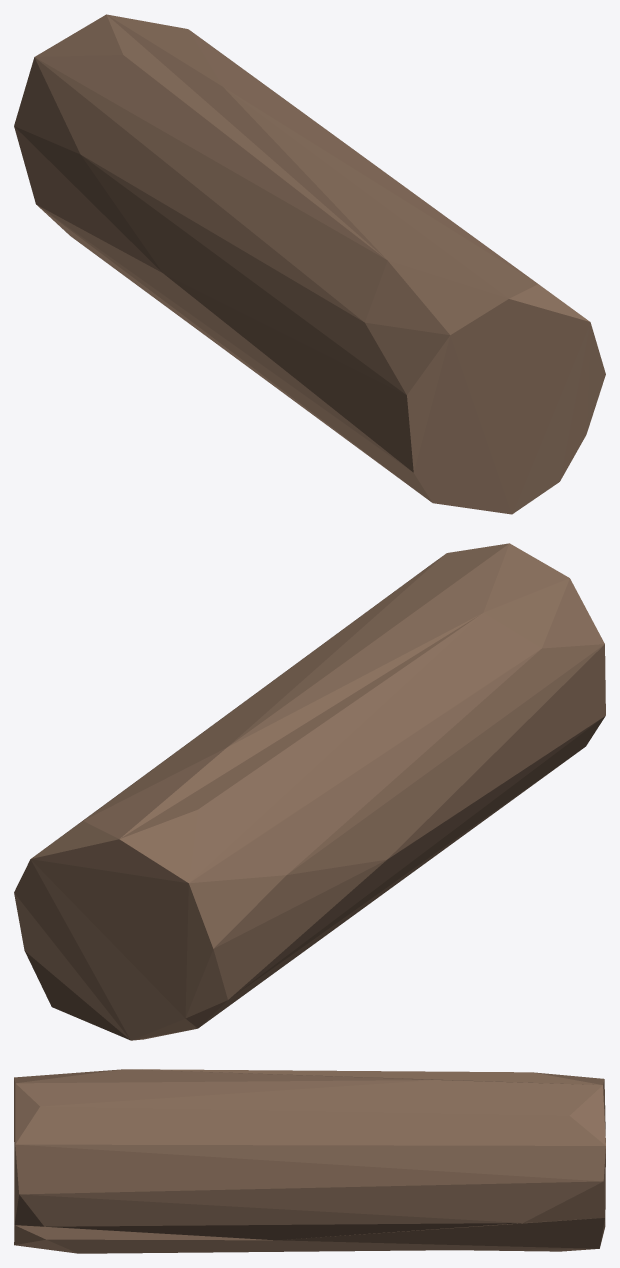
File: YN_WoodenSeat.fbx
The picture shows the model from 3 angles, top to bottom: view 1: azimuth 30°, elevation 25°; view 2: azimuth 150°, elevation 25°; view 3: azimuth 270°, elevation 25°; orthographic projection. The views are drawn at different scales.
Parts seen in each view (by area): view 1: YN_WoodenSeat; view 2: YN_WoodenSeat; view 3: YN_WoodenSeat.
Part boxes in pixels (<box>): YN_WoodenSeat: <box>14,14,605,514</box>; YN_WoodenSeat: <box>14,543,605,1040</box>; YN_WoodenSeat: <box>14,1069,605,1253</box>.
Size of the model in its own units: 0.5508 by 0.5507 by 1.8.
